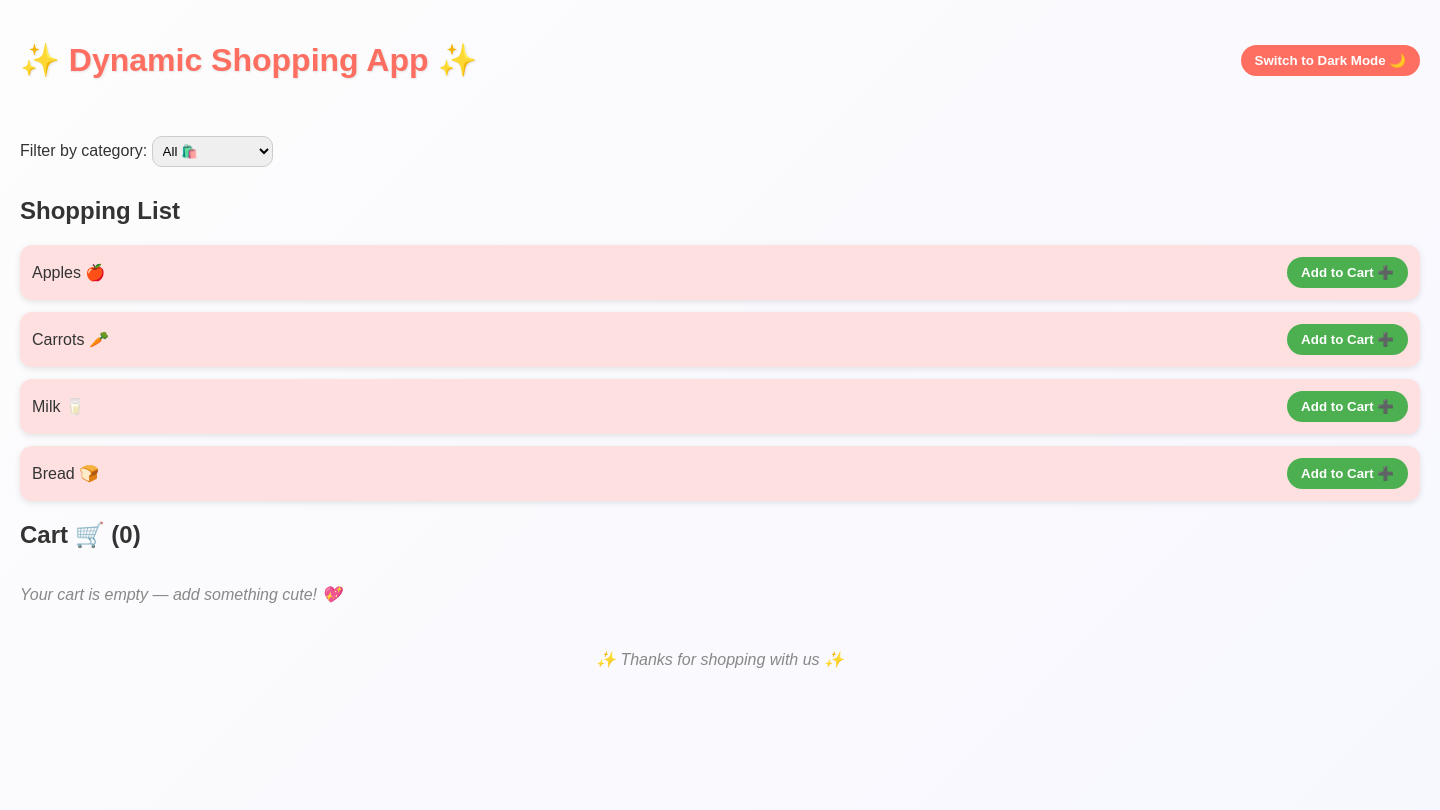
Test: adds item to cart when button clicked
Click the button "Add to Cart ➕" in the row of "Apples 🍎" at [1348, 272], box [1287, 257, 1408, 288]
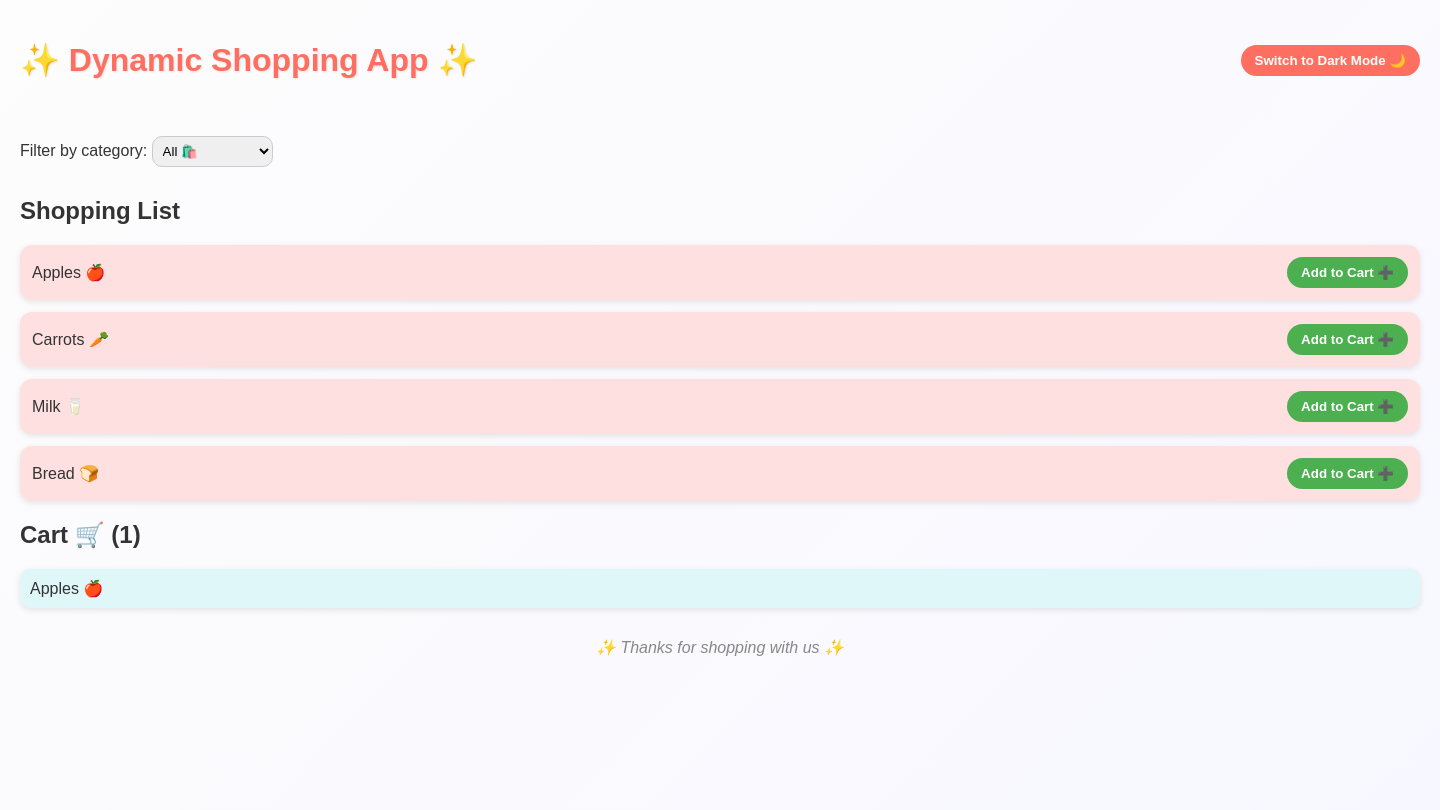
Result: the heading "Cart 🛒 (1)" is shown at [20, 521, 141, 548]
